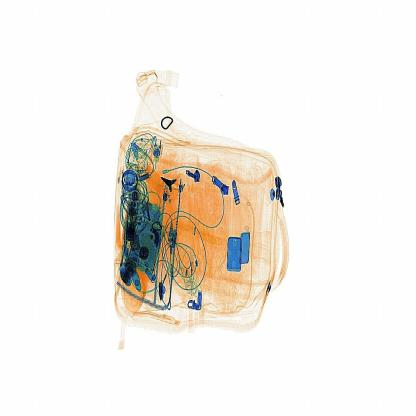gun: (156, 169, 198, 202)
